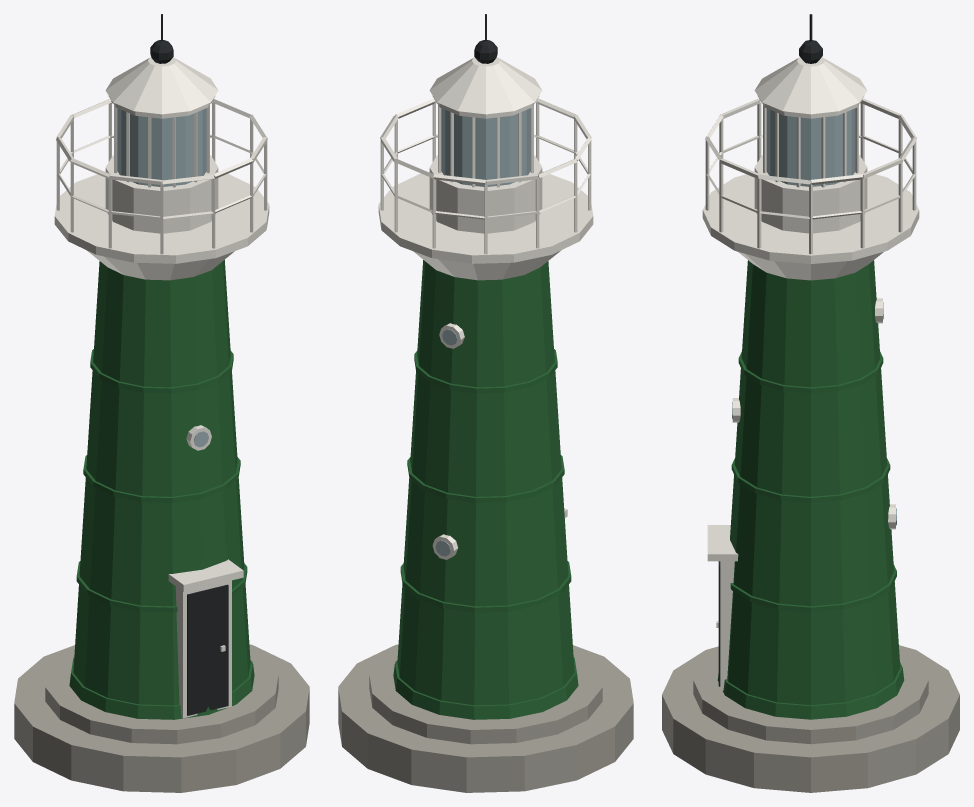
Rendered from mole_light_south.glb.
3 views of the same model, side by side, from view 1: azimuth 30°, elevation 25°; view 2: azimuth 150°, elevation 25°; view 3: azimuth 270°, elevation 25° (orthographic).
Visible parts, largest first — view 1: MoleLightSouth; view 2: MoleLightSouth; view 3: MoleLightSouth.
Boxes of the visible parts, x1,y1,x2,y2 form: MoleLightSouth: (14,14,309,792); MoleLightSouth: (338,14,633,792); MoleLightSouth: (662,14,959,792).
Size of what is drawn, in the model's own units: 3.8 by 10.07 by 3.8.
